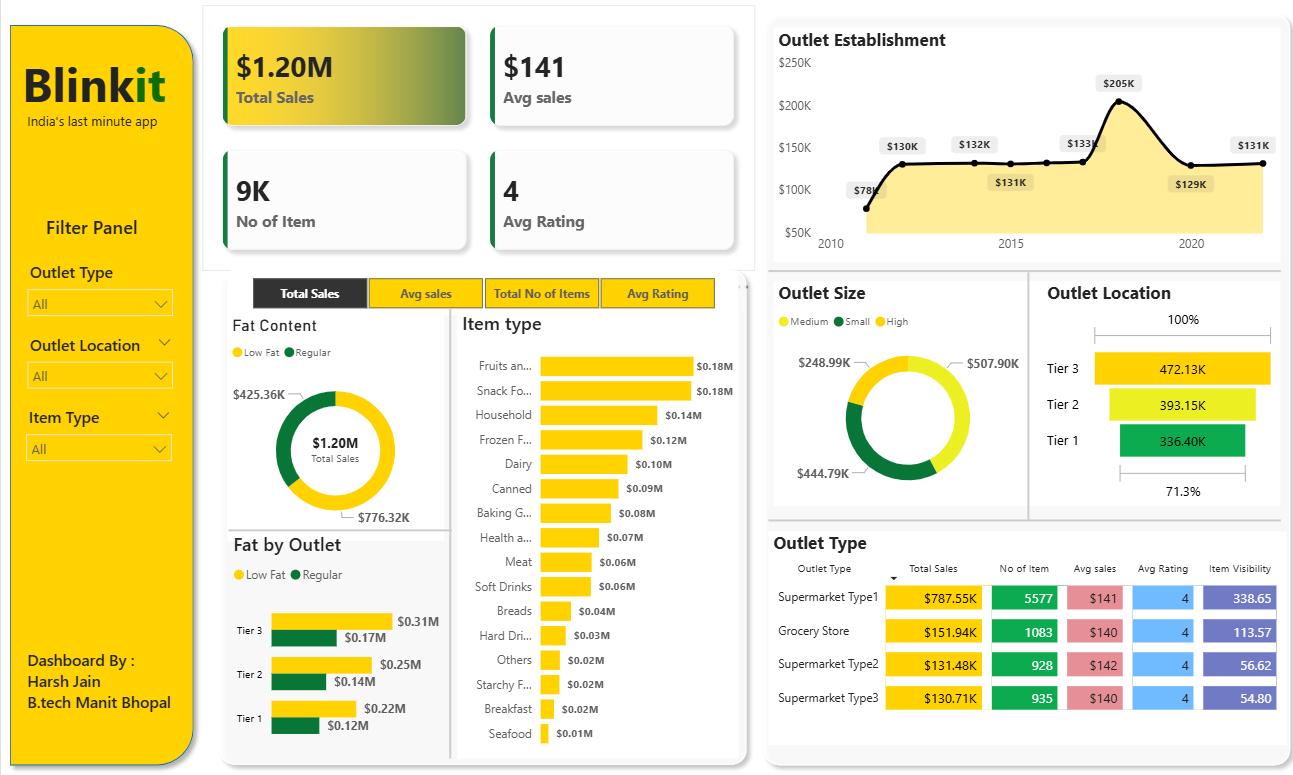

What the dashboard file says about the page in this screenshot:
{"tool":"powerbi","page":{"name":"Page 1","canvas":[1400,800],"ordinal":0},"visuals":[{"type":"shape","box":[0,21.2,205,771.2],"z":0},{"type":"textbox","box":[16.2,52.8,168.4,77.1],"z":1000},{"type":"textbox","box":[21.9,114.3,157,31.2],"z":2000},{"type":"cardVisual","fields":{"Data":["BlinkIT Grocery Data.Total Sales","BlinkIT Grocery Data.Avg sales","BlinkIT Grocery Data.Total No of Items","BlinkIT Grocery Data.Avg Rating"]},"box":[205,10,562.5,271.2],"z":3000},{"type":"shape","box":[213.8,271.2,553.8,521.2],"z":4000},{"type":"donutChart","title":"Fat Content","fields":{"Y":["BlinkIT Grocery Data.Total Sales"],"Category":["BlinkIT Grocery Data.Item Fat Content"]},"box":[229.8,325.7,220.6,229.8],"z":5000},{"type":"slicer","fields":{"Values":["Parameter.Parameter"]},"box":[229.8,281.1,520.1,44.7],"z":6000},{"type":"cardVisual","fields":{"Data":["BlinkIT Grocery Data.Total Sales"]},"box":[304.7,441.3,70.9,40.7],"z":7000},{"type":"clusteredBarChart","title":"Fat by Outlet","fields":{"Y":["BlinkIT Grocery Data.Total Sales"],"Category":["BlinkIT Grocery Data.Outlet Location Type"],"Series":["BlinkIT Grocery Data.Item Fat Content"]},"box":[231.1,545,219.3,231.1],"z":8000},{"type":"shape","box":[231.1,533.2,227.2,23.6],"z":9000},{"type":"shape","box":[450,318.8,13.8,457.5],"z":10000},{"type":"barChart","title":"Item type","fields":{"Y":["BlinkIT Grocery Data.Total Sales"],"Category":["BlinkIT Grocery Data.Item Type"]},"box":[463.8,320,286.2,456.2],"z":11000},{"type":"shape","box":[767.5,10,553.8,782.5],"z":12000},{"type":"areaChart","title":"Outlet Establishment","fields":{"Category":["BlinkIT Grocery Data.Outlet Establishment Year"],"Y":["BlinkIT Grocery Data.Total Sales"]},"box":[786.2,32.5,516.2,238.8],"z":13000},{"type":"shape","box":[781.2,271.2,521.2,20],"z":14000},{"type":"donutChart","title":"Outlet Size","fields":{"Y":["BlinkIT Grocery Data.Total Sales"],"Category":["BlinkIT Grocery Data.Outlet Size"]},"box":[786.2,291.2,274,228.8],"z":15000},{"type":"funnel","title":"Outlet Location","fields":{"Y":["Sum(BlinkIT Grocery Data.Sales)"],"Category":["BlinkIT Grocery Data.Outlet Location Type"]},"box":[1060,291.2,242.5,228.8],"z":16000},{"type":"shape","box":[781.2,523.8,521.2,21.2],"z":17000},{"type":"shape","box":[1038.8,282.5,12.5,251.2],"z":18000},{"type":"pivotTable","title":"Outlet Type","fields":{"Rows":["BlinkIT Grocery Data.Outlet Type"],"Values":["BlinkIT Grocery Data.Total Sales","BlinkIT Grocery Data.Total No of Items","BlinkIT Grocery Data.Avg sales","BlinkIT Grocery Data.Avg Rating","Sum(BlinkIT Grocery Data.Item Visibility)"]},"box":[781.2,545,527.5,217.5],"z":19000},{"type":"slicer","fields":{"Values":["BlinkIT Grocery Data.Outlet Location Type"]},"box":[16.2,340,168.8,73.8],"z":20000},{"type":"slicer","fields":{"Values":["BlinkIT Grocery Data.Outlet Type"]},"box":[16.2,266.2,168.8,73.8],"z":21000},{"type":"slicer","fields":{"Values":["BlinkIT Grocery Data.Item Type"]},"box":[15,413.8,168.8,73.8],"z":22000},{"type":"textbox","box":[41.2,218.8,117.5,47.5],"z":23000},{"type":"textbox","box":[21.6,660.1,156.4,92.8],"z":23001}]}

Visuals, with their boxes on the page's 1400x800 design canvas (x1, y1, x2, y2). These are canvas units, not pixel positions in the 1293x775 screenshot, which may show the page scaled, cropped or inside an application window:
shape: (0, 21, 205, 792)
textbox: (16, 53, 185, 130)
textbox: (22, 114, 179, 146)
cardVisual - BlinkIT Grocery Data.Total Sales x BlinkIT Grocery Data.Avg sales: (205, 10, 768, 281)
shape: (214, 271, 768, 792)
"Fat Content" donutChart: (230, 326, 450, 556)
slicer - Parameter.Parameter: (230, 281, 750, 326)
cardVisual - BlinkIT Grocery Data.Total Sales: (305, 441, 376, 482)
"Fat by Outlet" clusteredBarChart: (231, 545, 450, 776)
shape: (231, 533, 458, 557)
shape: (450, 319, 464, 776)
"Item type" barChart: (464, 320, 750, 776)
shape: (768, 10, 1321, 792)
"Outlet Establishment" areaChart: (786, 32, 1302, 271)
shape: (781, 271, 1302, 291)
"Outlet Size" donutChart: (786, 291, 1060, 520)
"Outlet Location" funnel: (1060, 291, 1302, 520)
shape: (781, 524, 1302, 545)
shape: (1039, 282, 1051, 534)
"Outlet Type" pivotTable: (781, 545, 1309, 762)
slicer - BlinkIT Grocery Data.Outlet Location Type: (16, 340, 185, 414)
slicer - BlinkIT Grocery Data.Outlet Type: (16, 266, 185, 340)
slicer - BlinkIT Grocery Data.Item Type: (15, 414, 184, 488)
textbox: (41, 219, 159, 266)
textbox: (22, 660, 178, 753)
